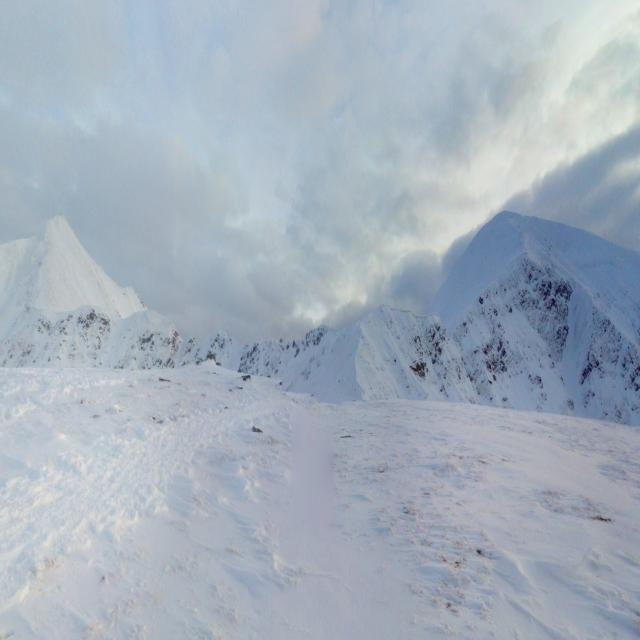Bystra: (408, 108, 602, 313)
Velka Kamenista: (1, 152, 110, 282)
